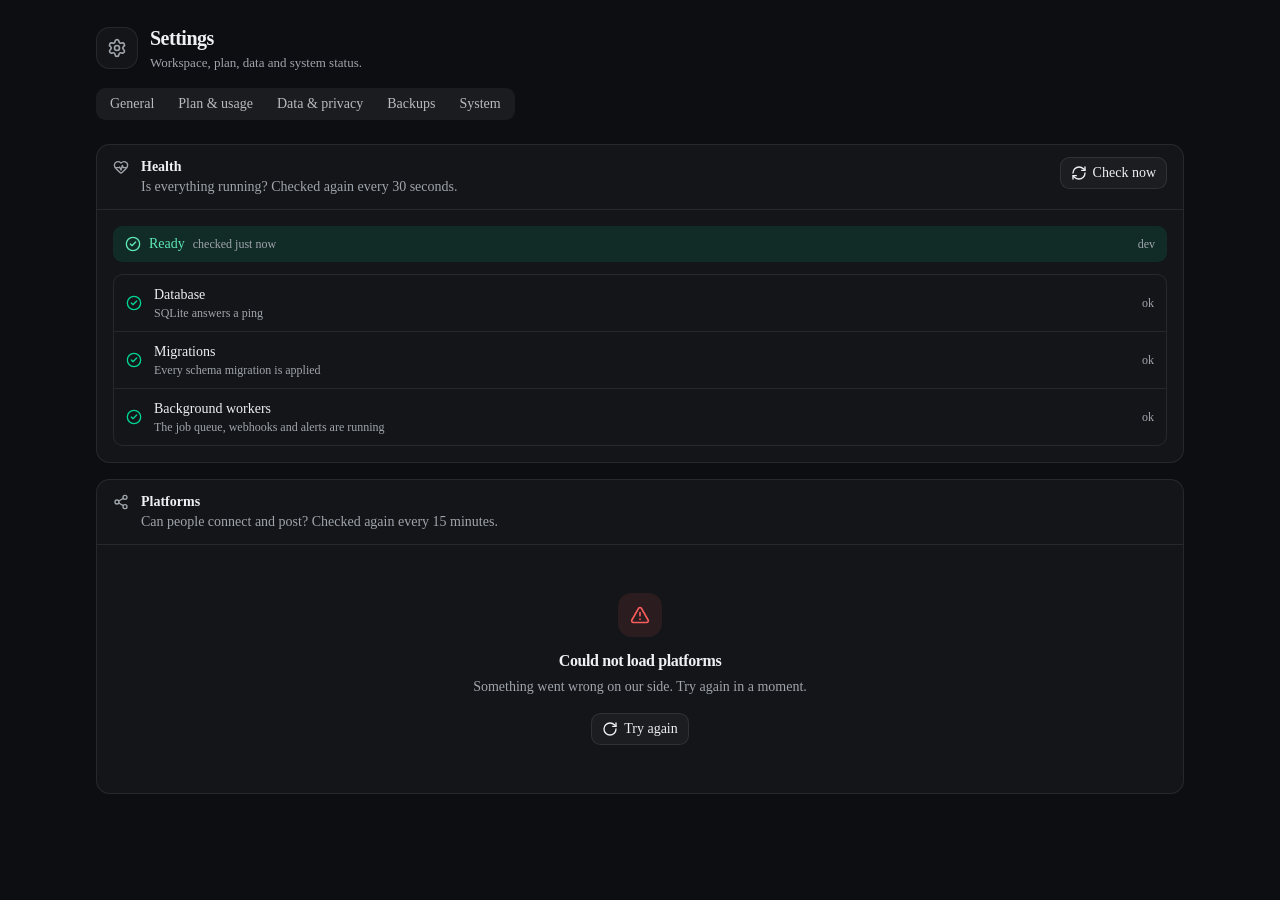
system page › shows a retry when platforms cannot be loaded
This screenshot has width=1280, height=900.
Check: the text "Could not load platforms" is shown, box [559,652,721,669]
Click the button "Try again".
click(640, 729)  # box [591,713,689,745]
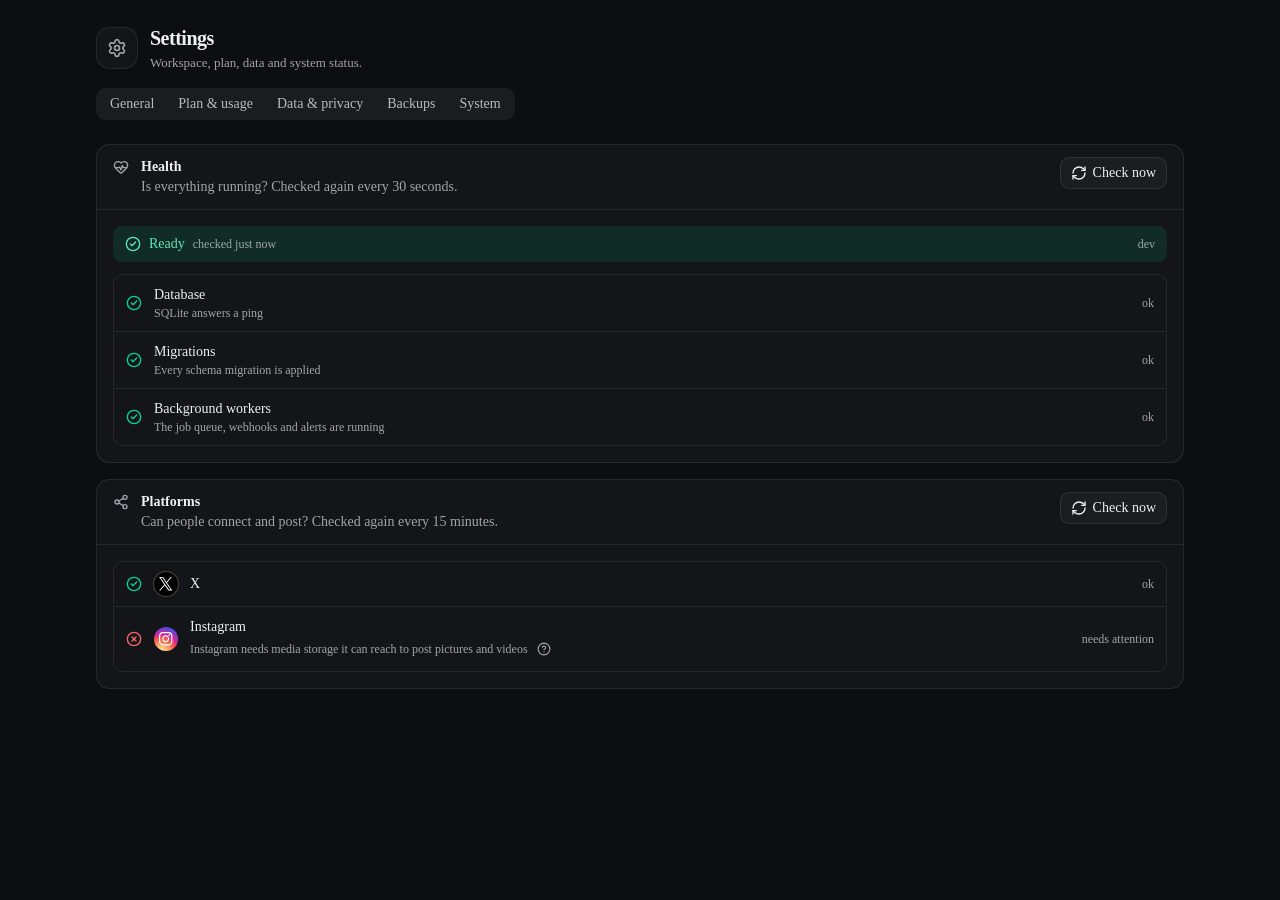
Check: the list with test id "platforms-health" is shown, box [113,561,1167,672]
